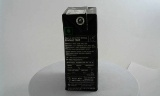appy: (56, 5, 92, 92)
